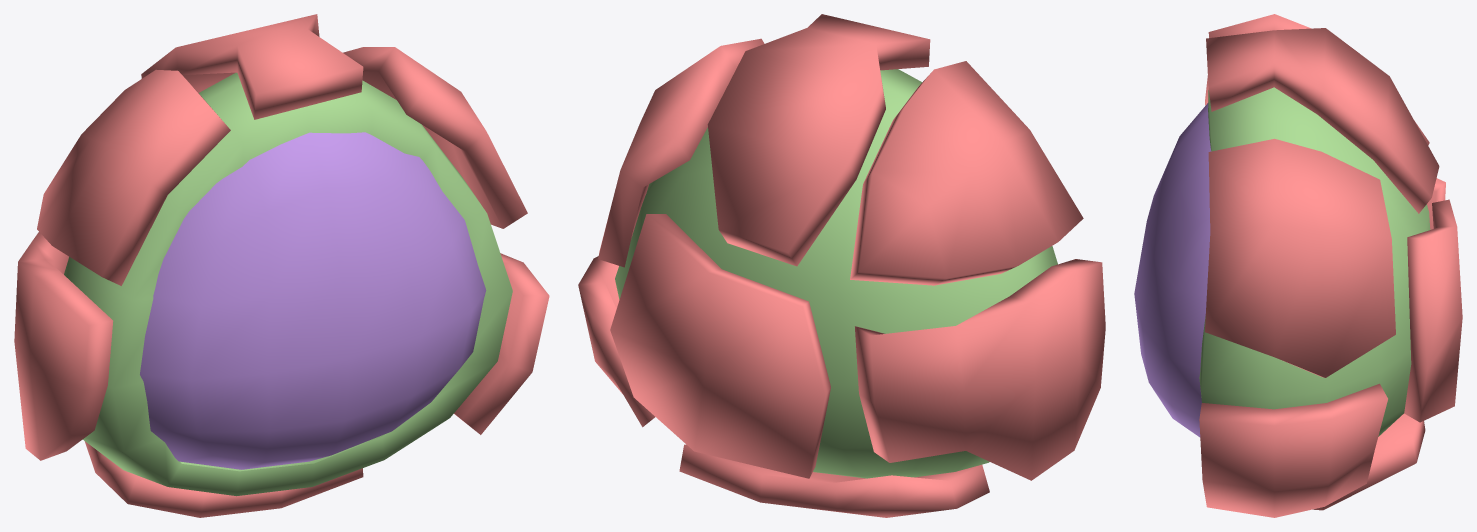
File: unit_stone.fbx
3 views of the same model, side by side, from view 1: azimuth 30°, elevation 25°; view 2: azimuth 150°, elevation 25°; view 3: azimuth 270°, elevation 25° (orthographic). The views are drawn at different scales.
Visible parts, largest first — view 1: Object003, Object002, Object001; view 2: Object002, Object001; view 3: Object002, Object001, Object003.
Part boxes in pixels (x1=…): Object003: x1=140, y1=132, x2=486, y2=469; Object002: x1=14, y1=14, x2=549, y2=517; Object001: x1=64, y1=72, x2=512, y2=496; Object002: x1=578, y1=14, x2=1105, y2=517; Object001: x1=615, y1=69, x2=1057, y2=478; Object002: x1=1199, y1=14, x2=1462, y2=517; Object001: x1=1199, y1=87, x2=1430, y2=436; Object003: x1=1134, y1=103, x2=1211, y2=437.
Size of the model in its own units: 31.57 by 19.62 by 28.28.
